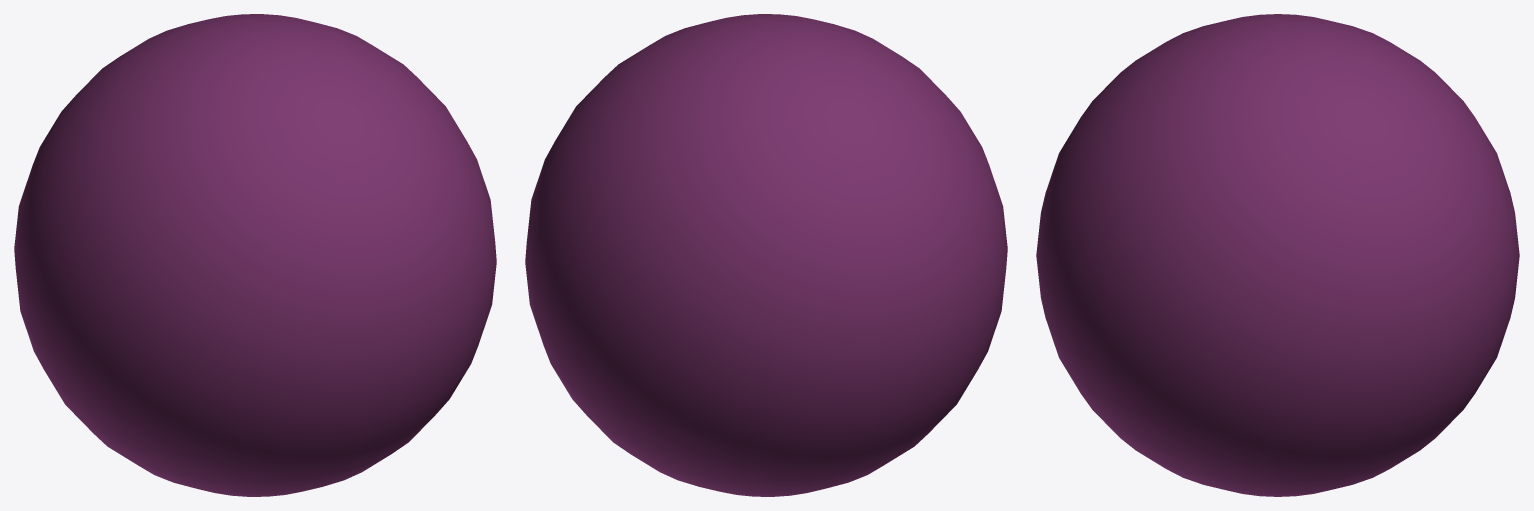
Rendered from Poison bubble.fbx.
3 renders of one model, left to right at view 1: azimuth 30°, elevation 25°; view 2: azimuth 150°, elevation 25°; view 3: azimuth 270°, elevation 25°, orthographic.
Parts seen in each view (by area): view 1: Sphere; view 2: Sphere; view 3: Sphere.
Part boxes in pixels (left/top/right/bottom): Sphere: left=14, top=14, right=496, bottom=496; Sphere: left=525, top=14, right=1007, bottom=496; Sphere: left=1036, top=14, right=1519, bottom=496.
Bounding box in the file's own units: 11.45 × 11.45 × 11.45.
